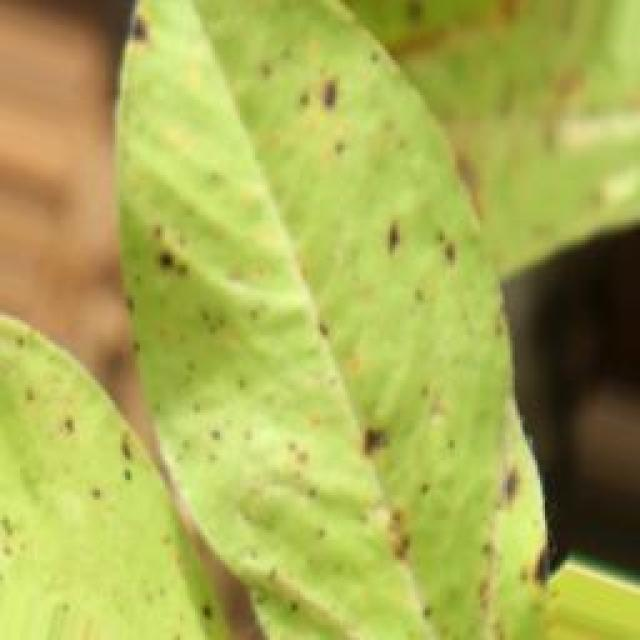Yellowish: (6, 0, 565, 640)
